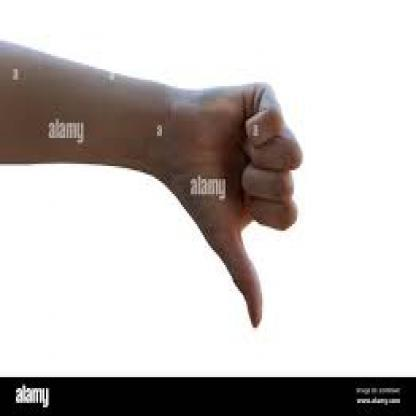thumb_down: (186, 75, 304, 330)
